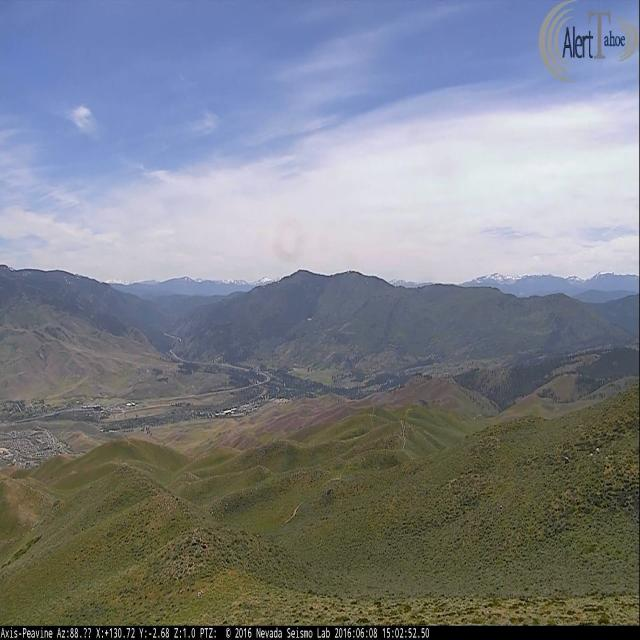smoke: (518, 288, 523, 296)
